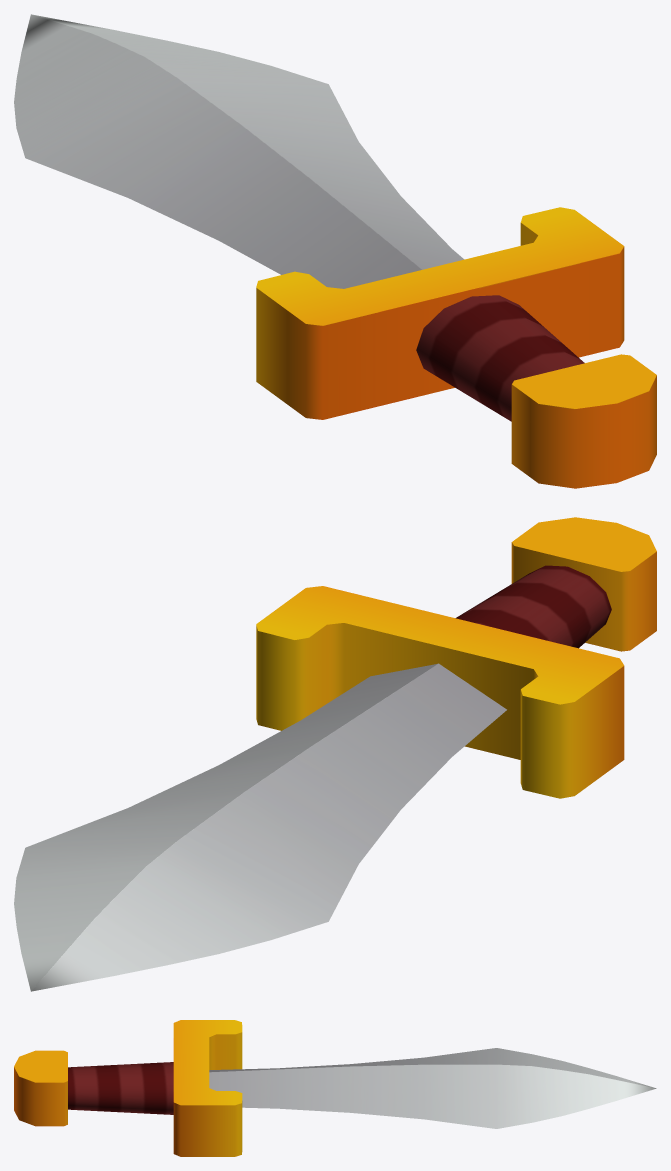
The model's file is Sword.FBX.
The picture shows the model from 3 angles, top to bottom: view 1: azimuth 30°, elevation 25°; view 2: azimuth 150°, elevation 25°; view 3: azimuth 270°, elevation 25°; orthographic projection. The views are drawn at different scales.
Visible parts, largest first — view 1: Sword; view 2: Sword; view 3: Sword.
Part boxes in pixels (x1,y1,x2,y2): Sword: [14, 14, 656, 488]; Sword: [14, 517, 656, 991]; Sword: [14, 1020, 656, 1156].
Bounding box in the file's own units: 11.73 × 3.31 × 37.37.
1 material, 1 textured.
